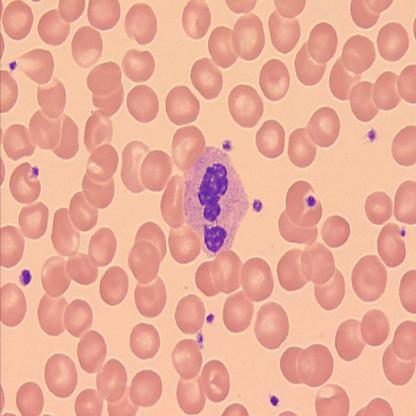Segmented neutrophil: (181, 143, 251, 259)
